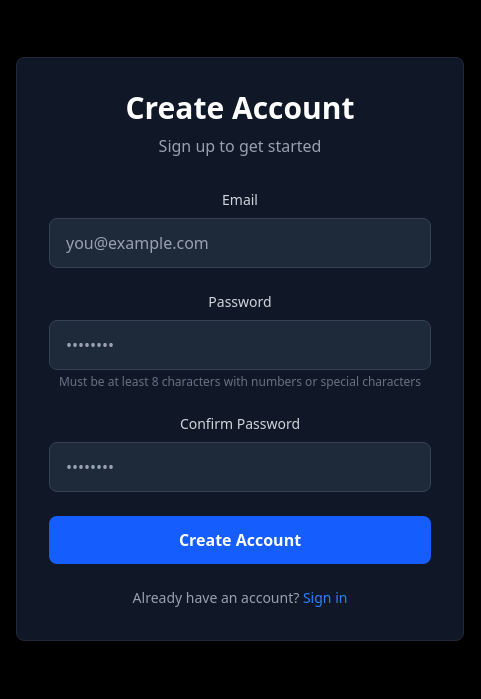
Register Component › Error Handling › displays user-friendly message for 409 duplicate email status
Type "duplicate@example.com" into the field labelled "Email" at (240, 243), box [49,218,431,268]
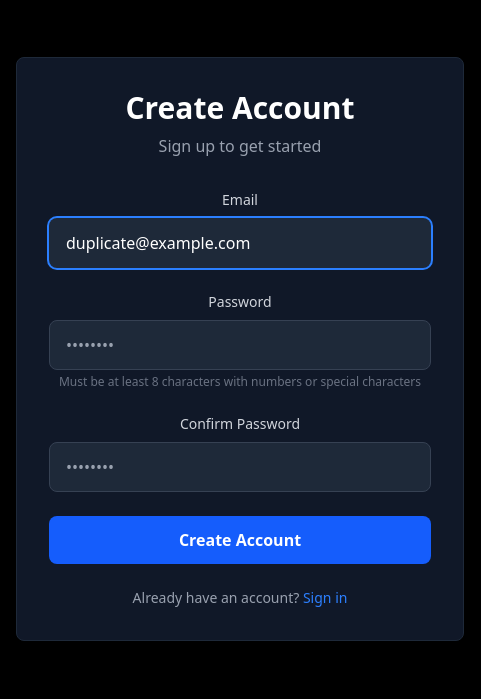
Type "SecurePass123!" into the password field labelled "Password" at (240, 345), box [49,320,431,370]
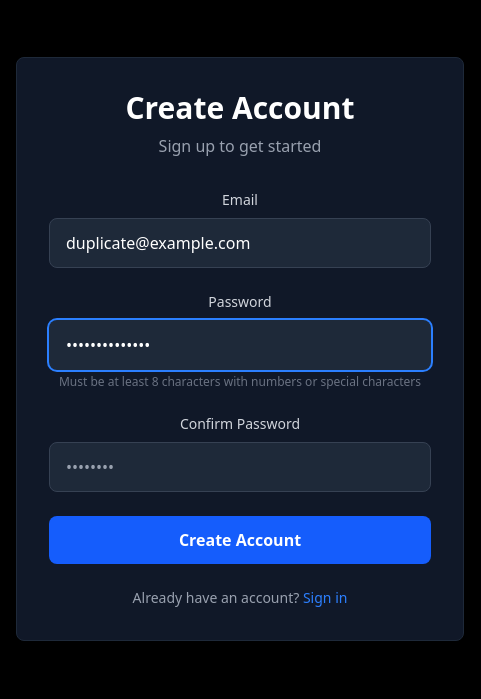
Type "SecurePass123!" into the password field labelled "Confirm Password" at (240, 467), box [49,442,431,492]
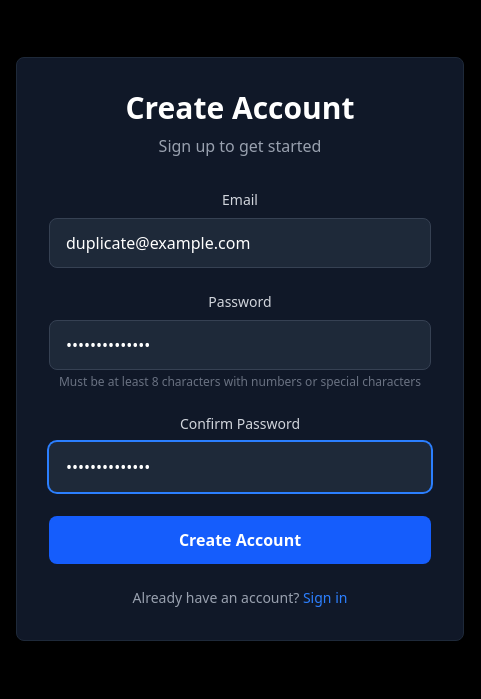
Click the button "Create Account" at (240, 540), box [49,516,431,564]
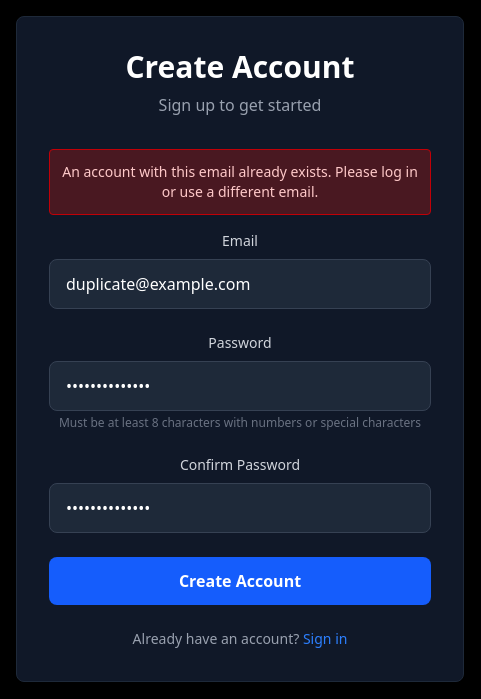
Result: the text "an account with this email already exists. please log in or use a different email" is shown at [62,162,418,201]
